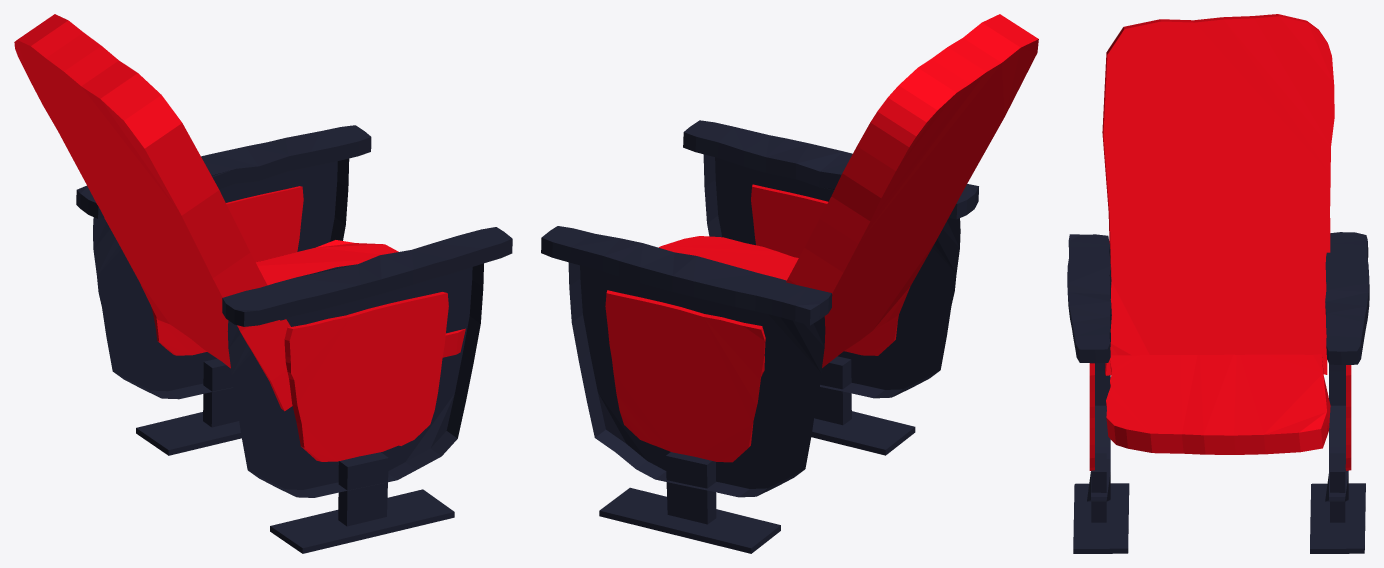
Rendered from kinositz.glb.
3 renders of one model, left to right at view 1: azimuth 30°, elevation 25°; view 2: azimuth 150°, elevation 25°; view 3: azimuth 270°, elevation 25°, orthographic. The views are drawn at different scales.
Parts seen in each view (by area): view 1: Circle.002, Circle.006, Circle.003, Circle.005, Circle.007, Circle.001, Circle.004, Plane, Circle, Plane.002, Plane.003, Plane.004; view 2: Circle.002, Circle.005, Circle.004, Circle.003, Circle.001, Circle.007, Plane.003, Circle.006, Plane.004, Circle, Plane, Plane.002; view 3: Circle.002, Circle, Circle.001, Circle.007, Plane, Plane.003, Circle.005, Circle.003, Plane.004, Plane.002, Circle.006, Circle.004.
Part boxes in pixels (x1=…): Circle.002: x1=14, y1=14, x2=292, y2=411; Circle.006: x1=284, y1=292, x2=448, y2=461; Circle.003: x1=227, y1=263, x2=483, y2=497; Circle.005: x1=93, y1=158, x2=349, y2=399; Circle.007: x1=222, y1=227, x2=512, y2=326; Circle.001: x1=76, y1=125, x2=371, y2=218; Circle.004: x1=151, y1=186, x2=303, y2=355; Plane: x1=270, y1=489, x2=454, y2=553; Circle: x1=255, y1=240, x2=465, y2=357; Plane.002: x1=338, y1=452, x2=388, y2=526; Plane.003: x1=136, y1=412, x2=241, y2=455; Plane.004: x1=203, y1=358, x2=238, y2=427; Circle.002: x1=786, y1=14, x2=1038, y2=367; Circle.005: x1=568, y1=262, x2=825, y2=497; Circle.004: x1=605, y1=290, x2=765, y2=462; Circle.003: x1=703, y1=154, x2=960, y2=398; Circle.001: x1=541, y1=226, x2=832, y2=325; Circle.007: x1=683, y1=120, x2=978, y2=219; Plane.003: x1=599, y1=487, x2=780, y2=553; Circle.006: x1=751, y1=184, x2=898, y2=355; Plane.004: x1=665, y1=452, x2=716, y2=524; Circle: x1=659, y1=236, x2=798, y2=280; Plane: x1=811, y1=411, x2=915, y2=455; Plane.002: x1=814, y1=356, x2=851, y2=425; Circle.002: x1=1102, y1=14, x2=1334, y2=375; Circle: x1=1106, y1=354, x2=1330, y2=454; Circle.001: x1=1325, y1=232, x2=1369, y2=364; Circle.007: x1=1067, y1=234, x2=1111, y2=363; Plane: x1=1073, y1=483, x2=1129, y2=553; Plane.003: x1=1310, y1=483, x2=1365, y2=553; Circle.005: x1=1325, y1=364, x2=1348, y2=501; Circle.003: x1=1087, y1=363, x2=1110, y2=501; Plane.004: x1=1330, y1=453, x2=1345, y2=522; Plane.002: x1=1091, y1=453, x2=1106, y2=522; Circle.006: x1=1089, y1=363, x2=1094, y2=470; Circle.004: x1=1345, y1=365, x2=1351, y2=470.
Size of the model in its own units: 1.31 by 1.61 by 1.04.
Materials: 6 (6 with a texture image).
